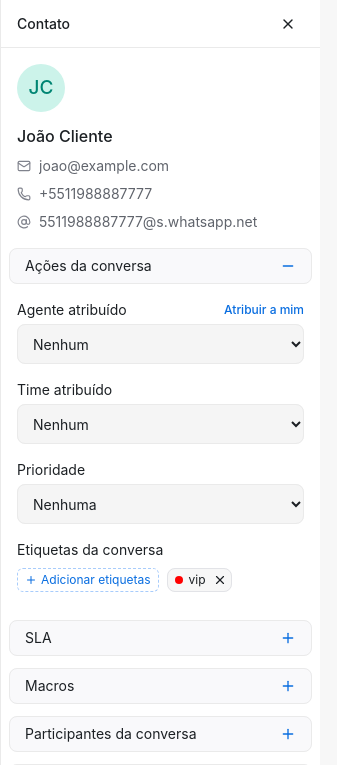
it: conversation SLA › applies a policy and shows its deadlines with countdown and missed badges
Click the button "SLA": (38, 638) [9, 620, 312, 656]
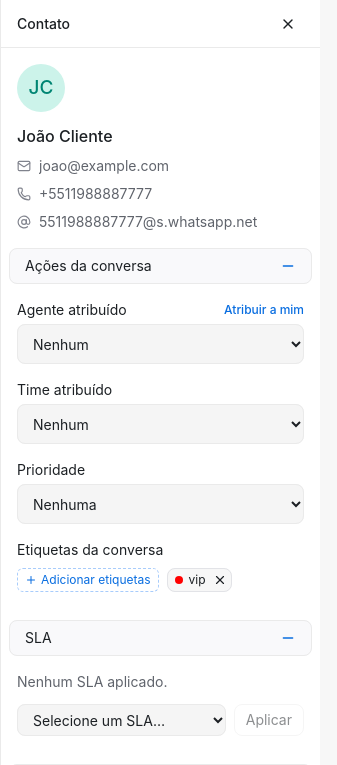
Now the text "Nenhum SLA aplicado." is shown, box [17, 673, 168, 690]
Now the button "Aplicar" is disabled, box [234, 704, 304, 736]
Select "Ouro" in the dropdown named "Política de SLA": (121, 720) [17, 704, 226, 736]
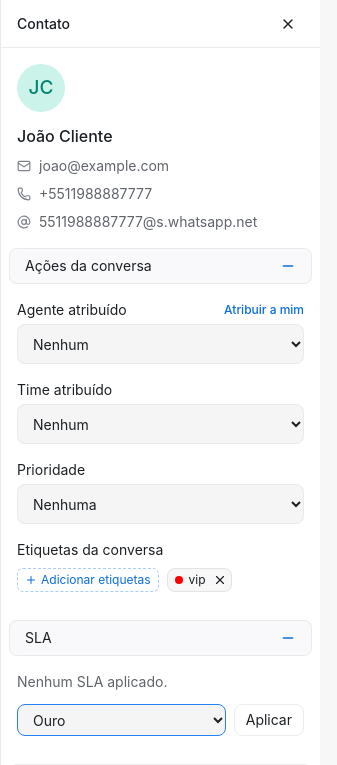
Click the button "Aplicar": (269, 720) [234, 704, 304, 736]
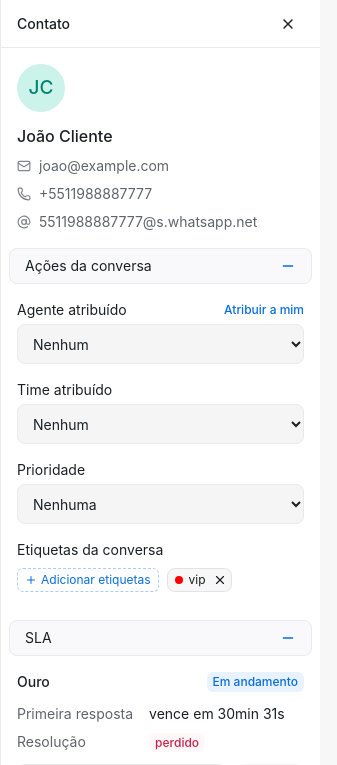
Now the text "Em andamento" is shown, box [206, 672, 304, 692]
Now the text "vence em 30min 31s" is shown, box [149, 705, 285, 722]
Now the text "perdido" is shown, box [149, 733, 205, 752]
